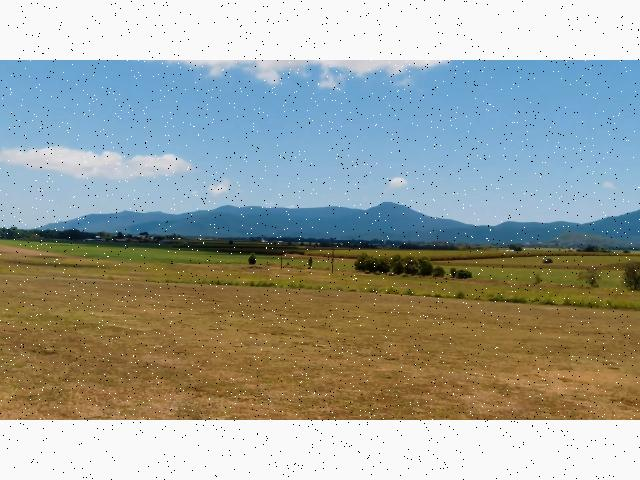Anti-Drone: (278, 199, 306, 217)
